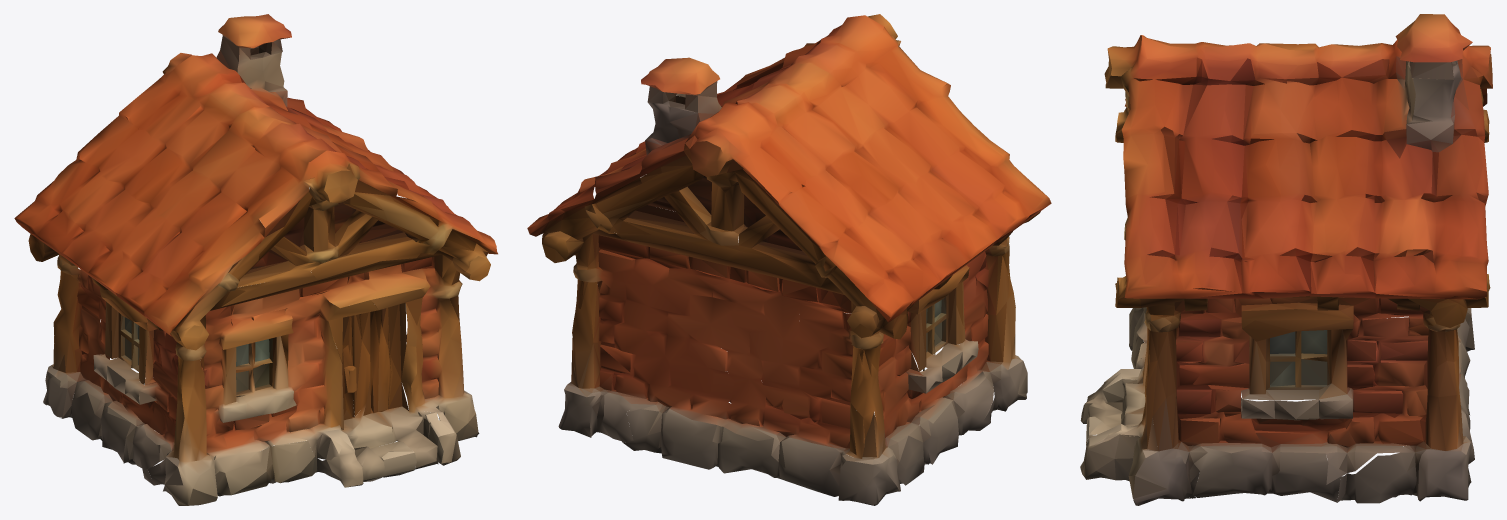
File: building-brickHouse.glb
3 views of the same model, side by side, from view 1: azimuth 30°, elevation 25°; view 2: azimuth 150°, elevation 25°; view 3: azimuth 270°, elevation 25° (orthographic). The views are drawn at different scales.
Visible parts, largest first — view 1: 0_brickHouse; view 2: 0_brickHouse; view 3: 0_brickHouse.
Boxes of the visible parts, left/top/right/bottom form: 0_brickHouse: left=14, top=14, right=497, bottom=505; 0_brickHouse: left=527, top=14, right=1051, bottom=505; 0_brickHouse: left=1080, top=14, right=1492, bottom=505.
Bounding box in the file's own units: 5.54 × 5.56 × 4.92.
